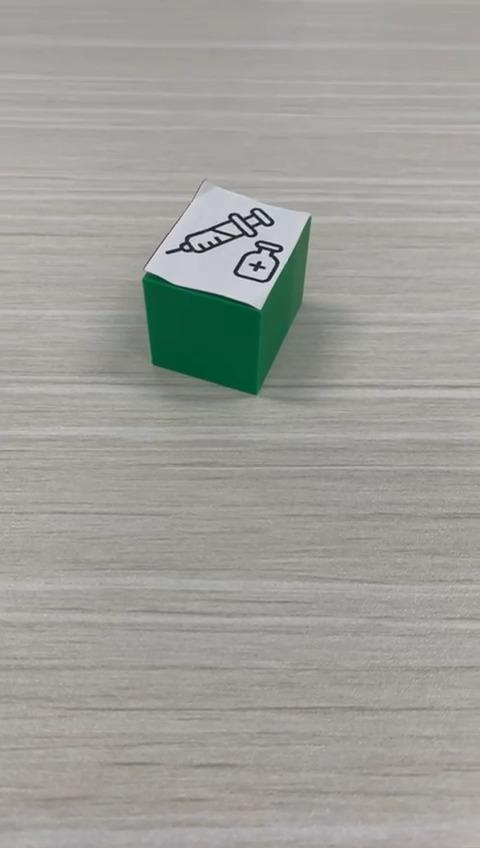antiseptic cream: (140, 176, 312, 396)
